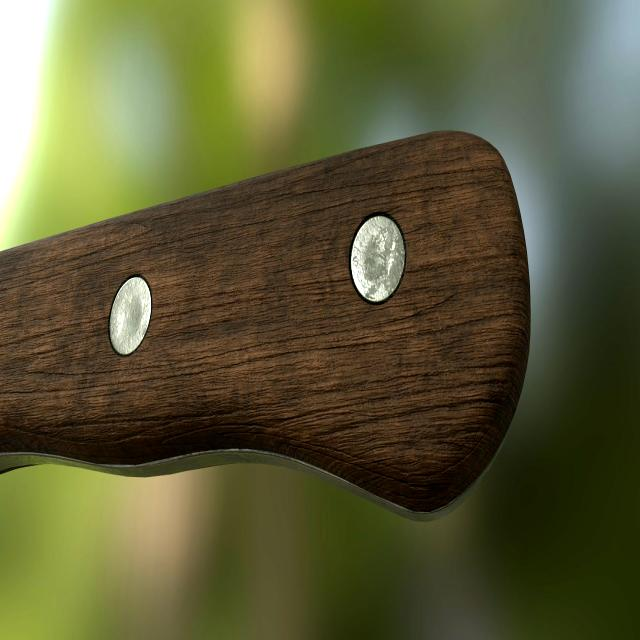cleaver: (0, 127, 527, 500)
